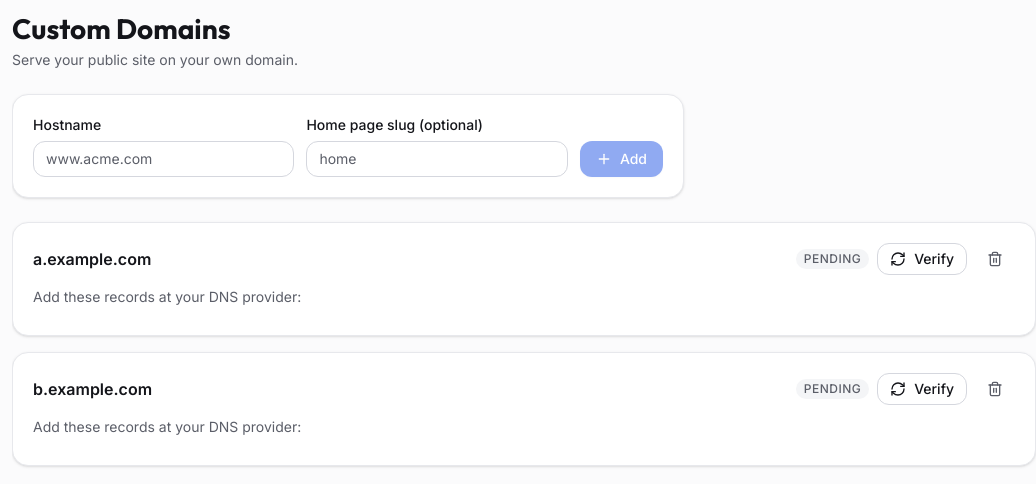
Test: CustomDomainsPage — per-row verify loading › only disables the Verify button of the domain being verified, not the others
Click the button "Verify" in the row of "a.example.com". click: (922, 259)
box: top-left (877, 243), bottom-right (967, 275)
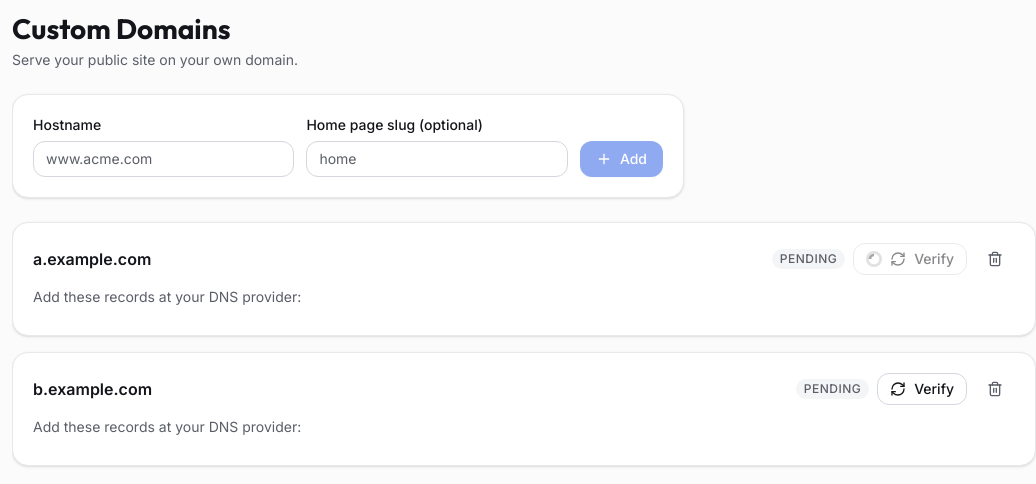
Expected: the button "Verify" in the row of "b.example.com" is enabled, top-left (877, 373), bottom-right (967, 405)
Result: the button "Verify" in the row of "a.example.com" is disabled at top-left (853, 243), bottom-right (967, 275)
